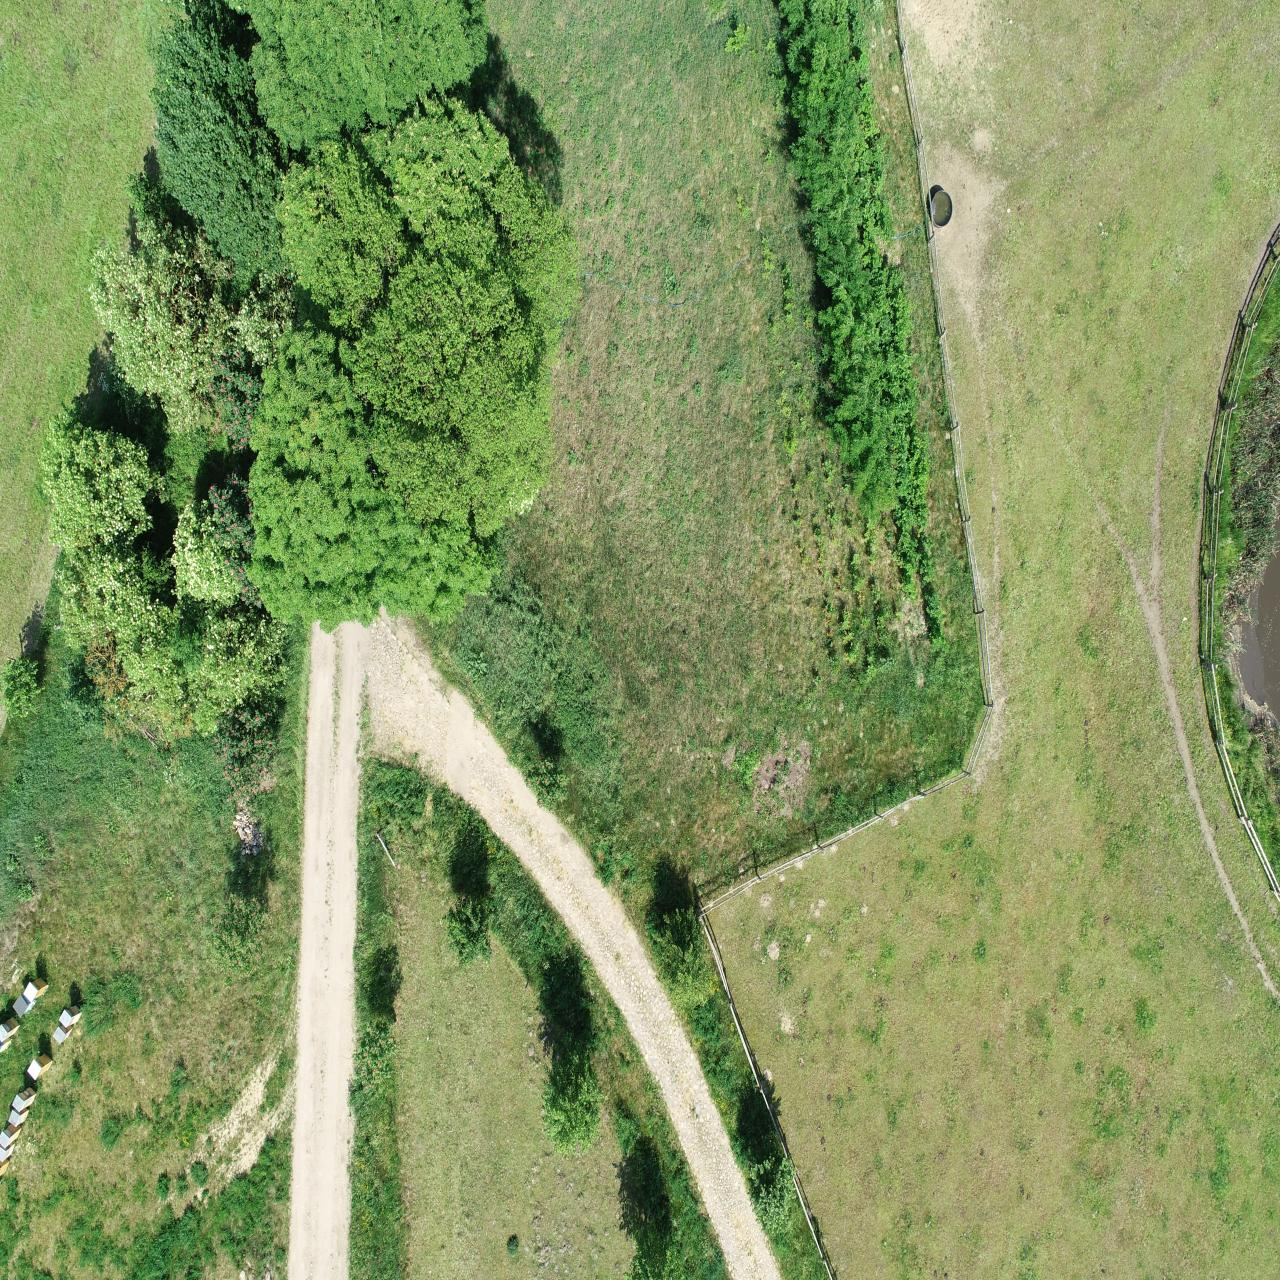cow: (1131, 101, 1175, 154), (952, 410, 979, 470), (901, 454, 934, 499), (983, 306, 1012, 354), (901, 635, 925, 692), (751, 601, 777, 652), (822, 631, 847, 680), (815, 940, 836, 999), (660, 995, 682, 1050), (729, 1177, 747, 1238), (887, 788, 907, 840), (836, 588, 859, 632), (871, 870, 888, 926), (794, 836, 815, 881)
